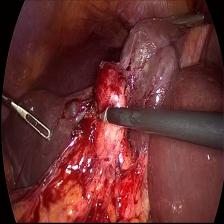Grasper: (4, 89, 60, 144)
Hook: (95, 102, 108, 128)
